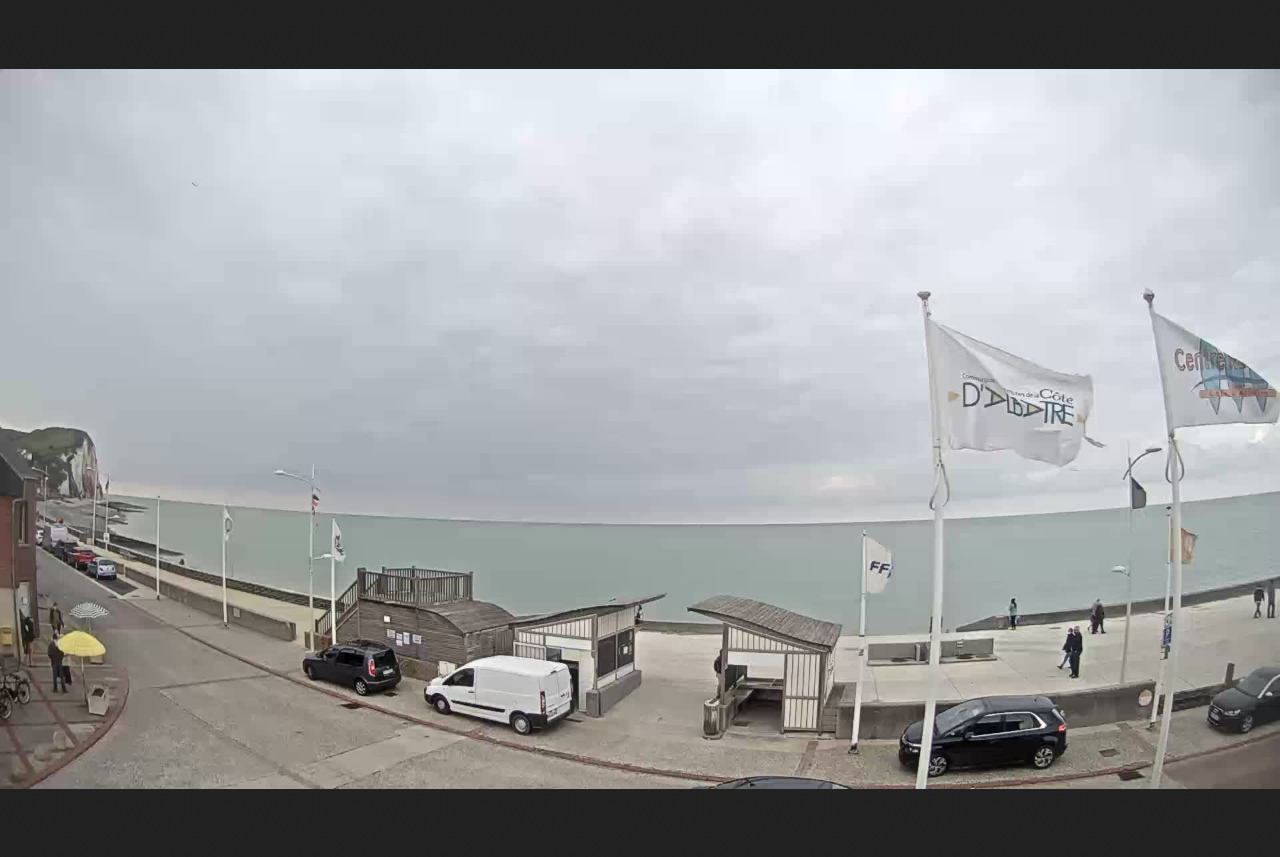maybe: (859, 532, 898, 597), (1167, 512, 1200, 565), (329, 517, 349, 565)
no: (224, 513, 231, 542)
yes: (925, 316, 1098, 467), (1151, 313, 1280, 425)
